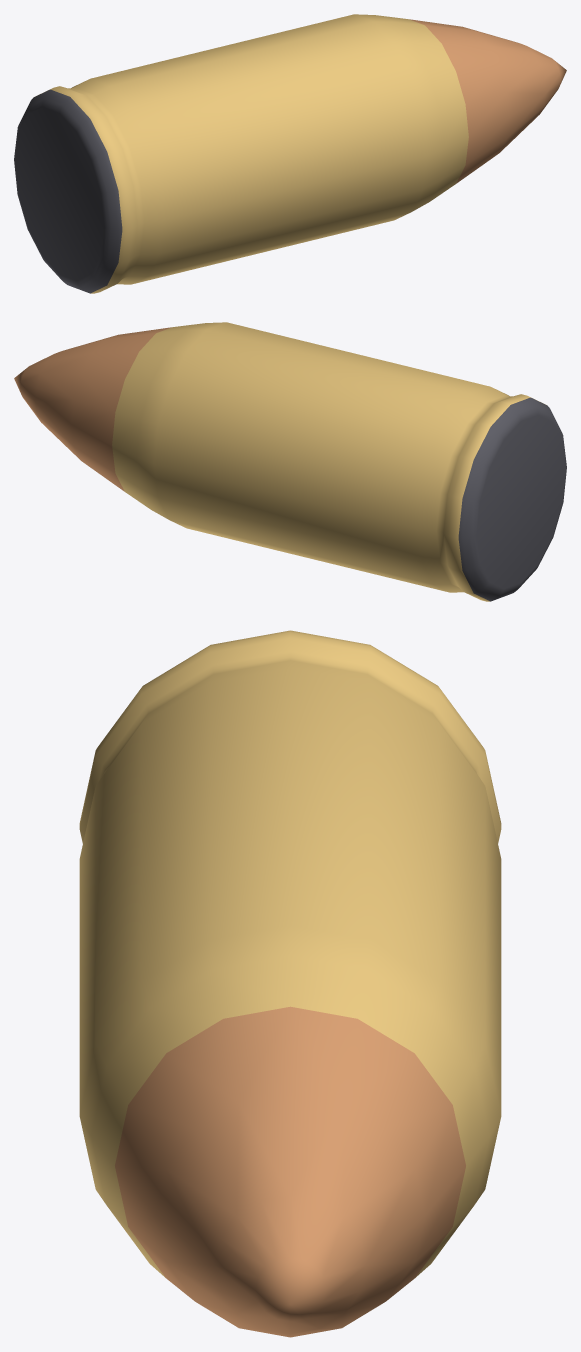
Rendered from Bullet.glb.
The picture shows the model from 3 angles, top to bottom: view 1: azimuth 30°, elevation 25°; view 2: azimuth 150°, elevation 25°; view 3: azimuth 270°, elevation 25°; orthographic projection. The views are drawn at different scales.
Parts seen in each view (by area): view 1: Bullet; view 2: Bullet; view 3: Bullet.
Part boxes in pixels (x1,y1,x2,y2): Bullet: [14, 14, 566, 293]; Bullet: [14, 322, 566, 601]; Bullet: [79, 630, 501, 1337].
Bounding box in the file's own units: 1 × 0.36 × 0.36.
